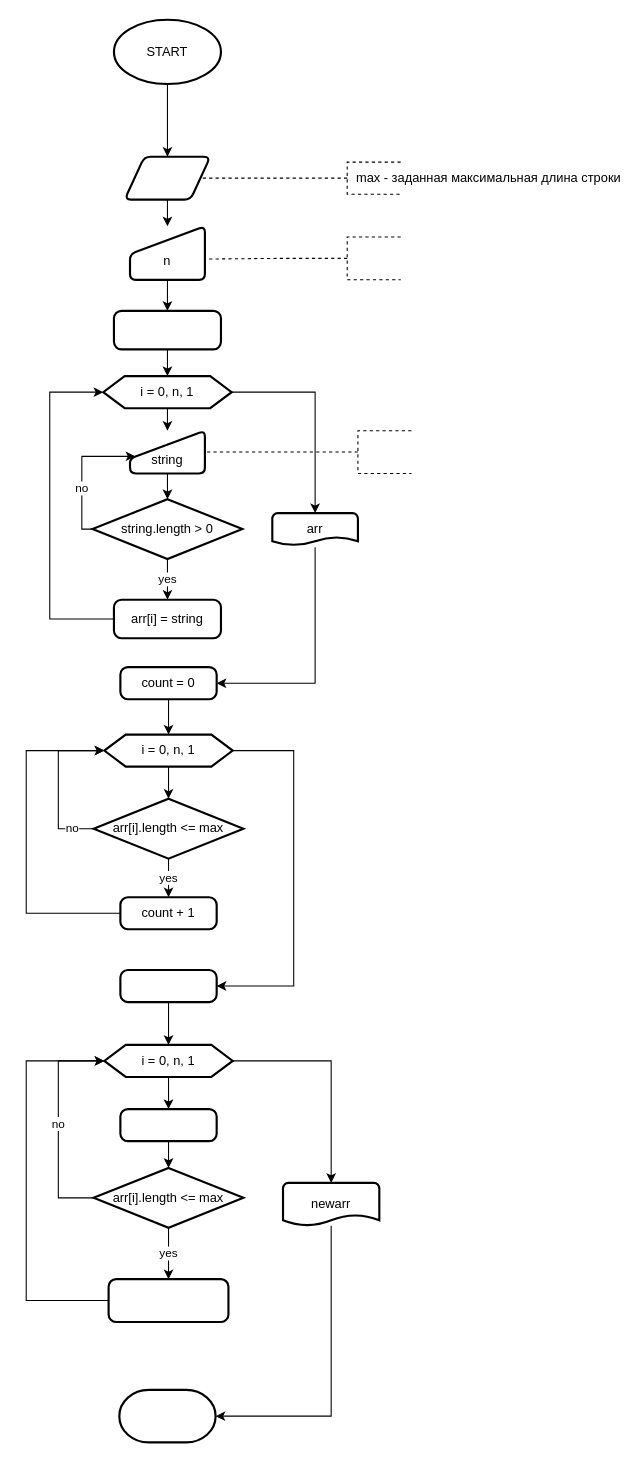
This 640x1462 diagram has some shape labels left out. The centre of each missing label's shape, as x and y in pixels:
"arr[n]" goes at point (166, 329).
"FINISH" goes at point (167, 1415).
"j = 0" goes at point (168, 1124).
"max" goes at point (167, 177).
"n - количество строк в массиве; задается пользователем" goes at point (373, 258).
"newarr[count]" goes at point (168, 985).
"newarr[j] = arr[i] j + 1" goes at point (168, 1300).
"string - строка; вводится пользователем" goes at point (384, 451).
